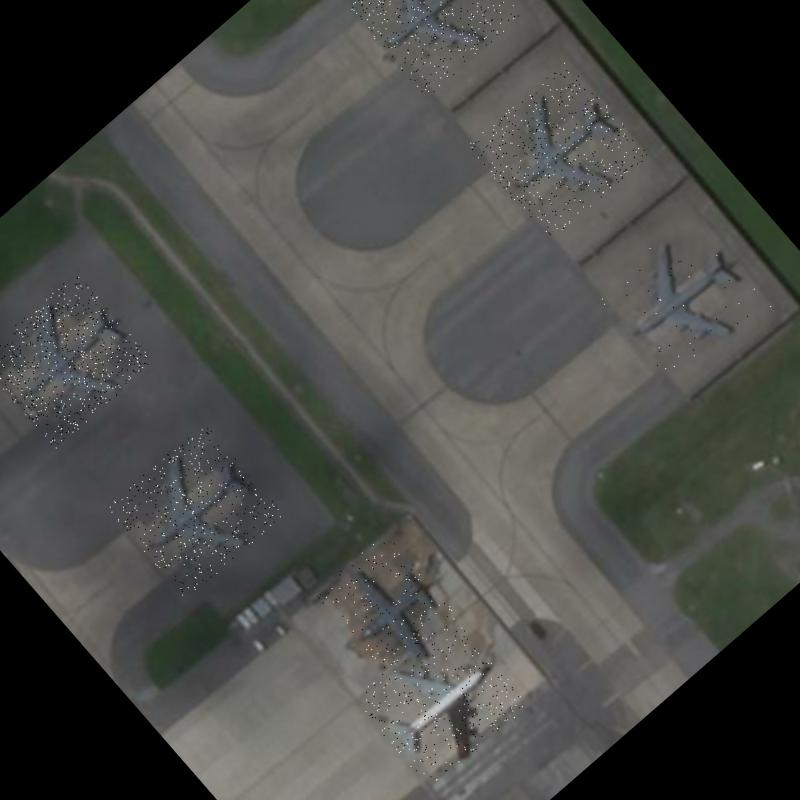A11: (352, 613, 530, 790)
A14: (466, 58, 650, 242), (593, 212, 772, 391), (106, 422, 285, 600), (0, 272, 155, 449), (346, 0, 523, 98)
A2: (315, 532, 467, 686)
